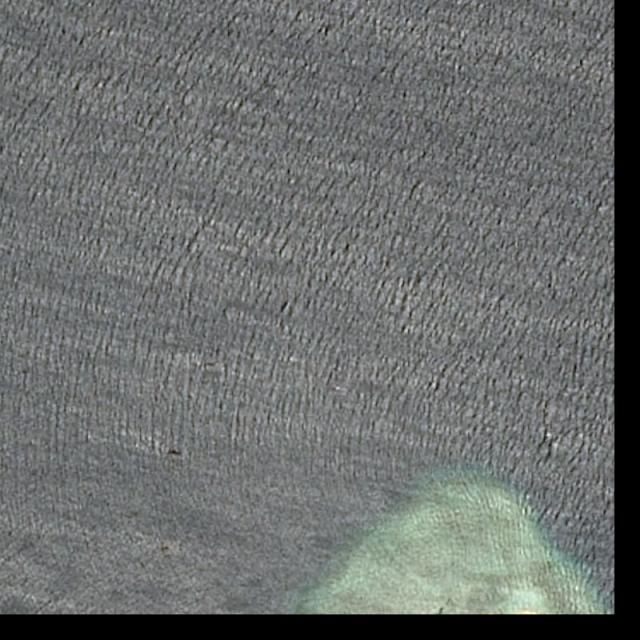ship: (170, 450, 179, 455)
